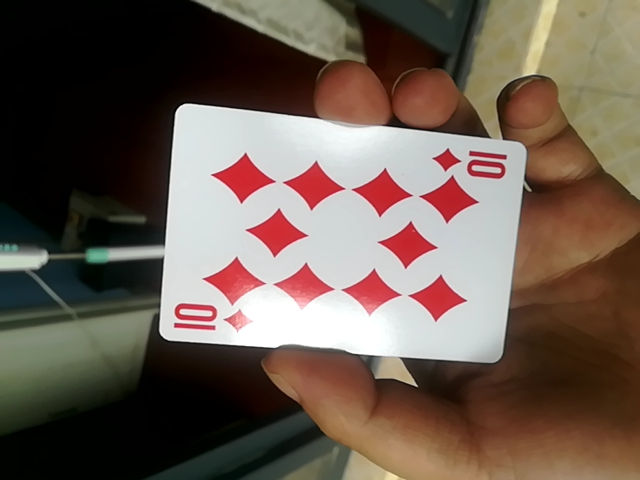fk 10: (151, 102, 526, 364)
